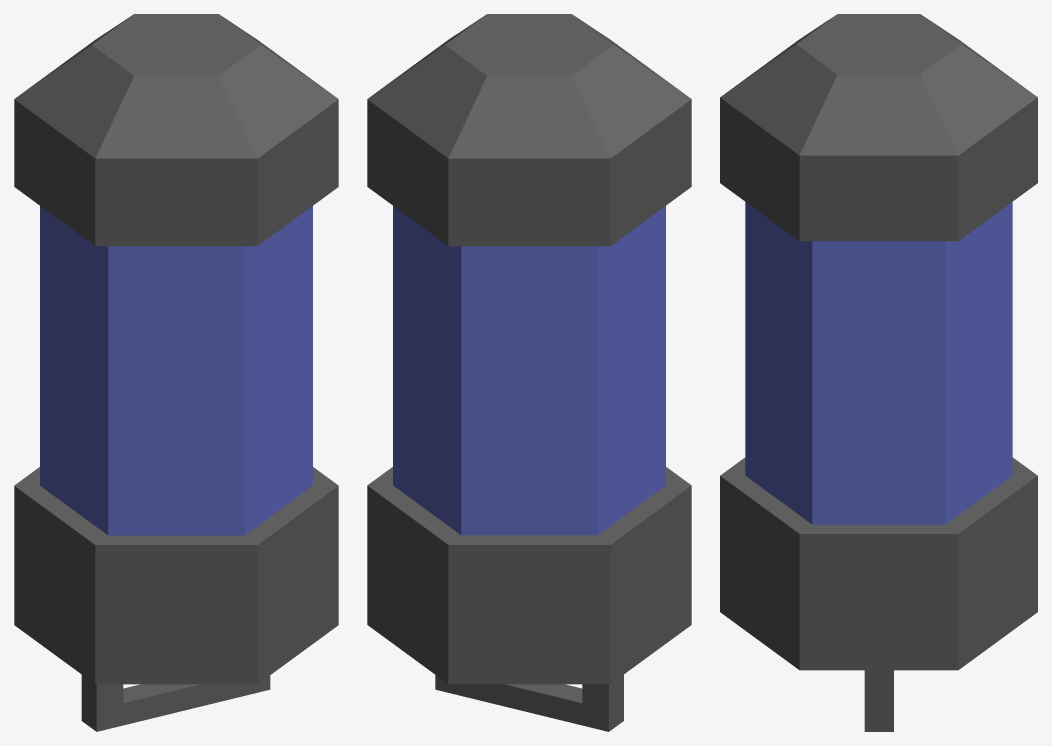
The model's file is Batpick.fbx.
The picture shows the model from 3 angles, left to right: view 1: azimuth 30°, elevation 25°; view 2: azimuth 150°, elevation 25°; view 3: azimuth 270°, elevation 25°; orthographic projection. The views are drawn at different scales.
Parts seen in each view (by area): view 1: Battery; view 2: Battery; view 3: Battery.
Boxes of the visible parts, left/top/right/bottom form: Battery: left=14, top=14, right=338, bottom=731; Battery: left=367, top=14, right=691, bottom=731; Battery: left=720, top=14, right=1037, bottom=731.
Size of the model in its own units: 21.49 by 55.69 by 24.81.
